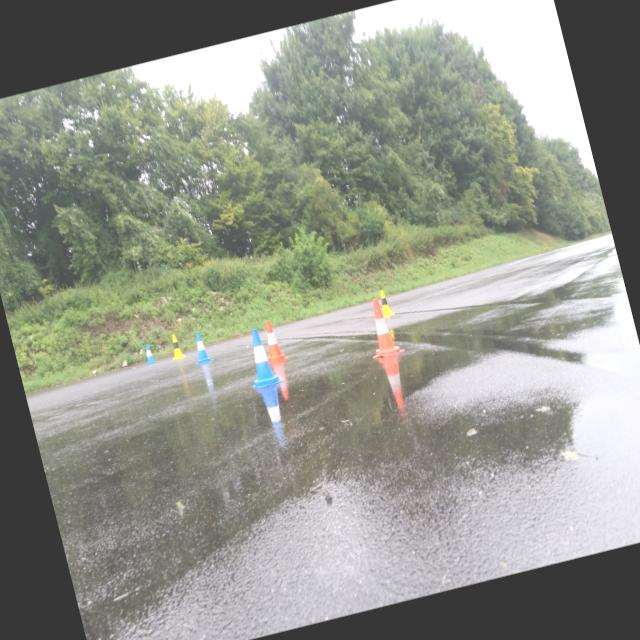blue_cone: (240, 325, 282, 390), (188, 330, 214, 364), (142, 343, 156, 365)
orange_cone: (359, 294, 405, 359), (258, 317, 288, 363)
yellow_cone: (166, 332, 187, 360), (376, 288, 394, 316)
